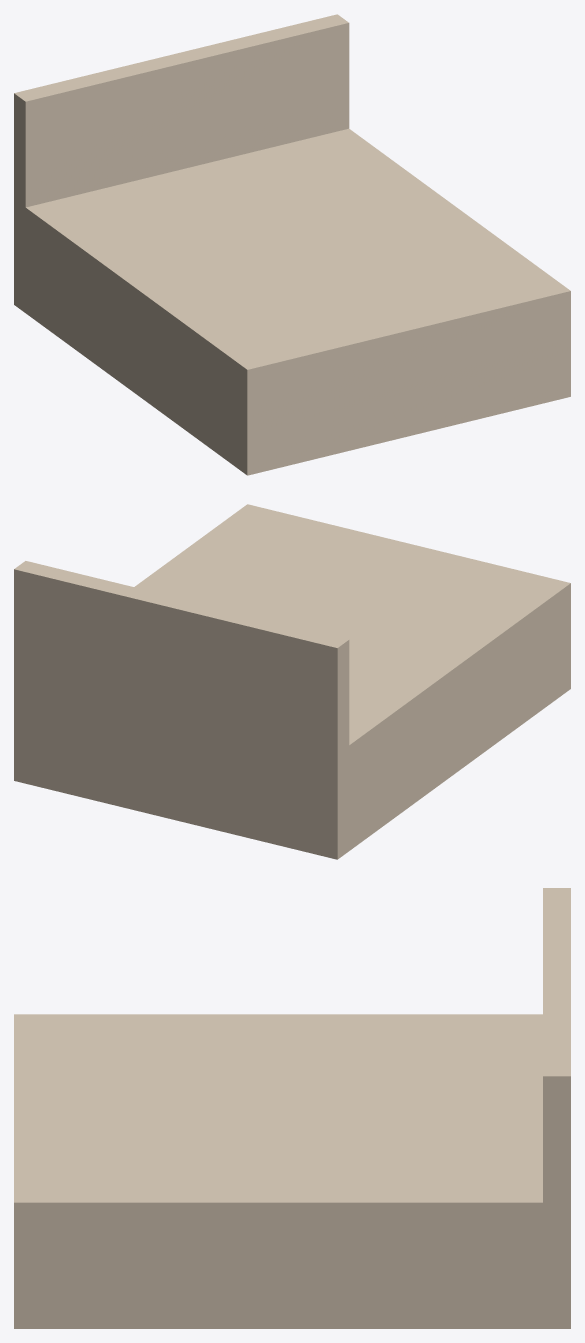
Rendered from bed.glb.
3 renders of one model, top to bottom at view 1: azimuth 30°, elevation 25°; view 2: azimuth 150°, elevation 25°; view 3: azimuth 270°, elevation 25°, orthographic. The views are drawn at different scales.
Size of the model in its own units: 1.6 by 1 by 2.
